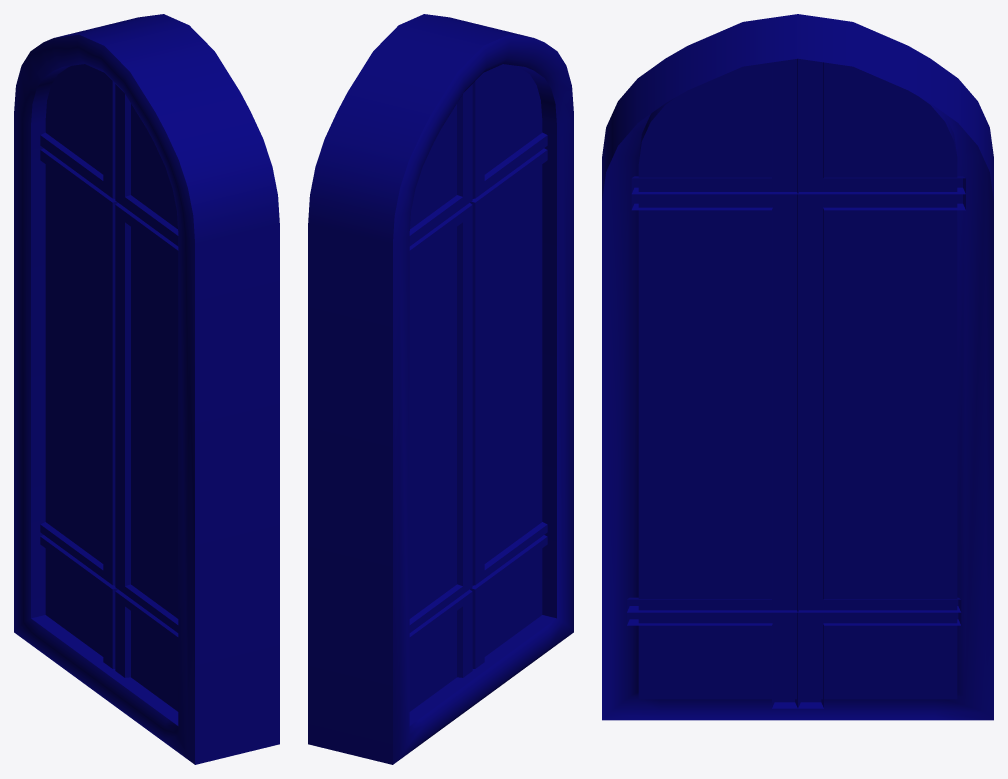
The model's file is 드레스룸 창문.fbx.
3 views of the same model, side by side, from view 1: azimuth 30°, elevation 25°; view 2: azimuth 150°, elevation 25°; view 3: azimuth 270°, elevation 25° (orthographic). The views are drawn at different scales.
Visible parts, largest first — view 1: 드레스룸 창문; view 2: 드레스룸 창문; view 3: 드레스룸 창문.
Boxes of the visible parts, <box> form: 드레스룸 창문: <box>14,14,279,764</box>; 드레스룸 창문: <box>308,14,573,764</box>; 드레스룸 창문: <box>602,14,993,720</box>.
Size of the model in its own units: 18.52 by 131 by 65.96.
